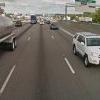Car: (47, 17, 66, 37)
